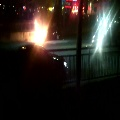fire: (31, 19, 48, 47)
